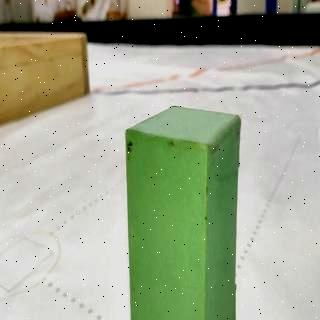greenbox: (122, 101, 245, 320)
